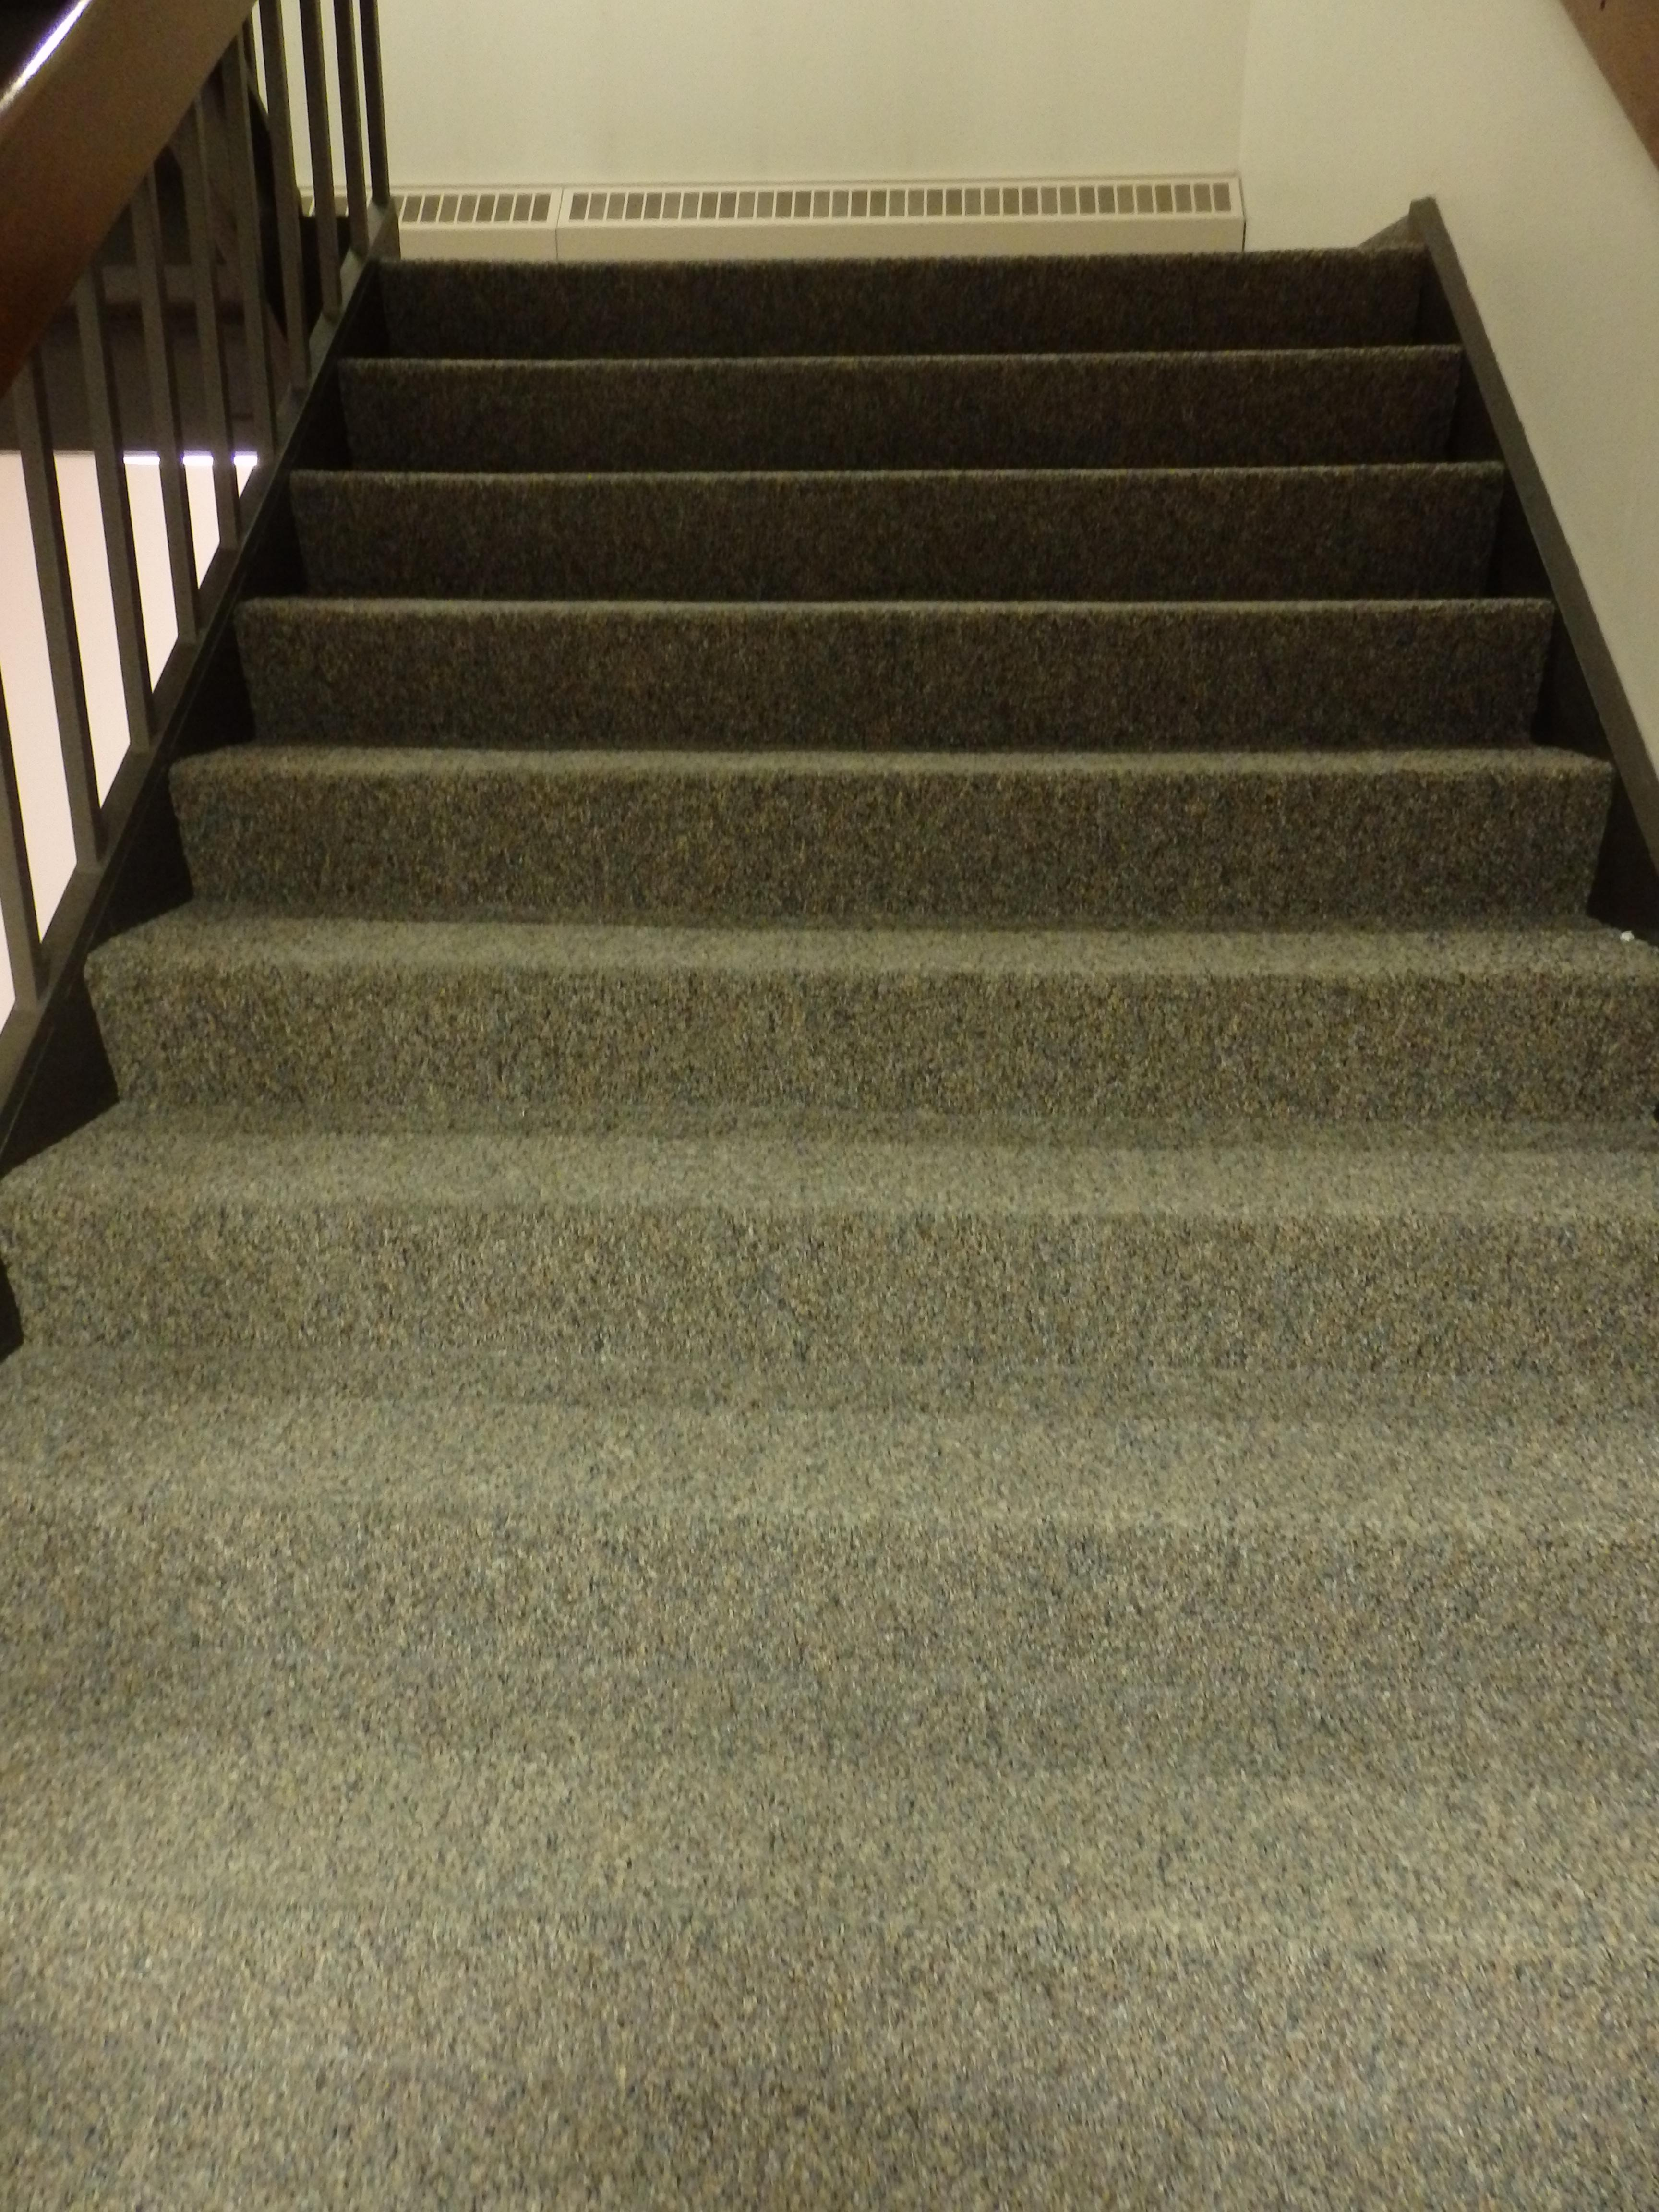stairs_up: (110, 247, 1638, 2026)
